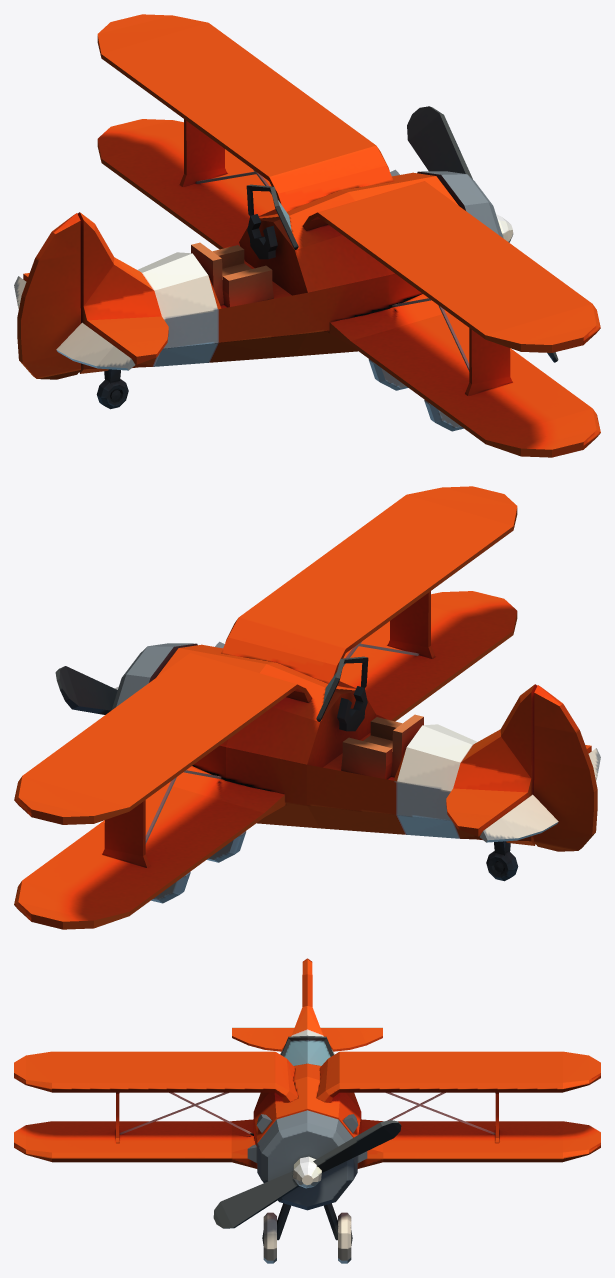
3 views of the same model, one above another, from view 1: azimuth 30°, elevation 25°; view 2: azimuth 150°, elevation 25°; view 3: azimuth 270°, elevation 25° (orthographic). The views are drawn at different scales.
Parts seen in each view (by area): view 1: wholePlane, helix; view 2: wholePlane, helix; view 3: wholePlane, helix.
Boxes of the visible parts, box(x1,y1,x2,y2) form: wholePlane: box(14, 14, 600, 457); helix: box(407, 106, 558, 362); wholePlane: box(14, 486, 600, 929); helix: box(55, 666, 118, 714); wholePlane: box(14, 958, 600, 1263); helix: box(213, 1120, 401, 1228).
Bounding box in the file's own units: 2.42 × 1.33 × 3.78.
Materials: 1 (1 with a texture image).
